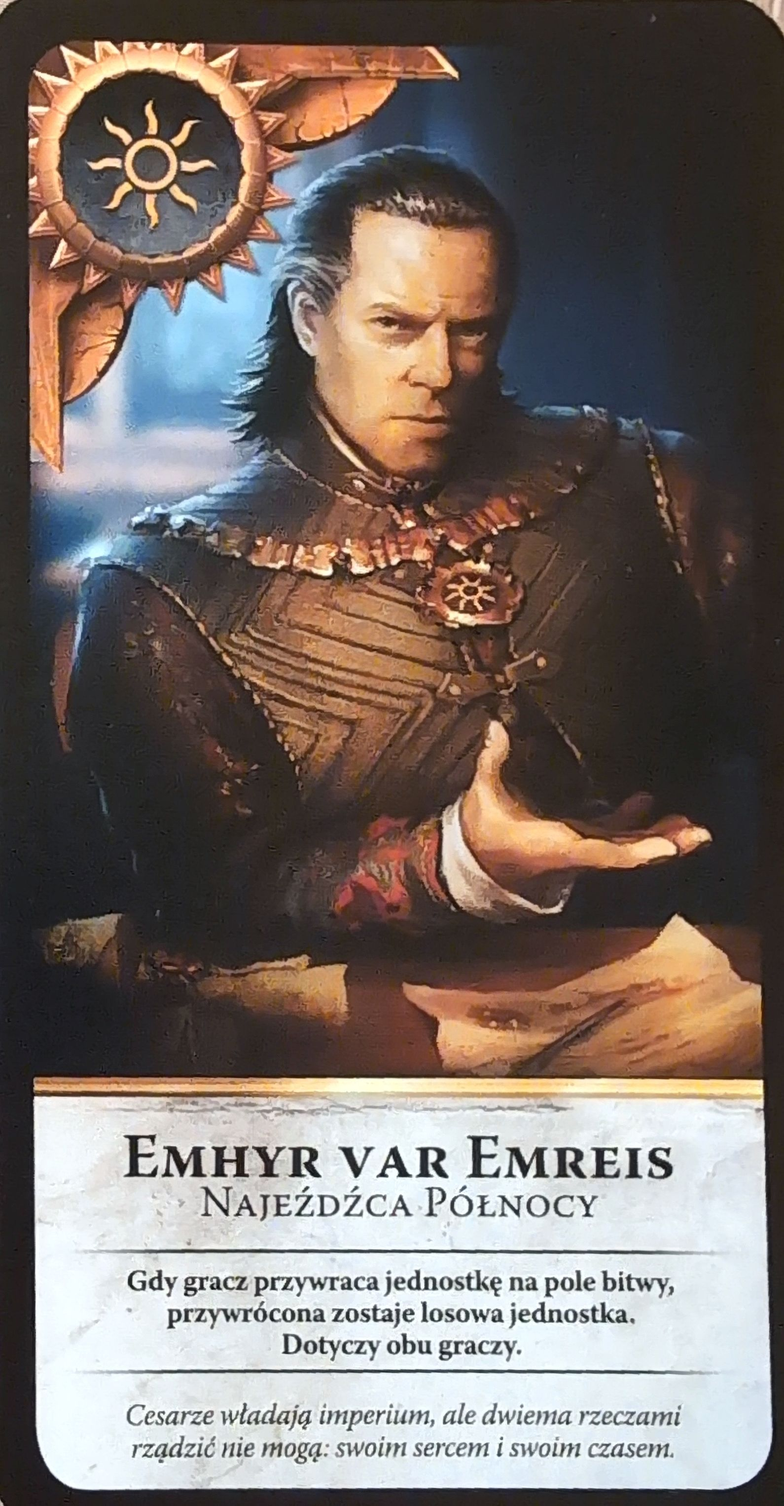emhyr najezdzca polnocy: (4, 5, 784, 1503)
